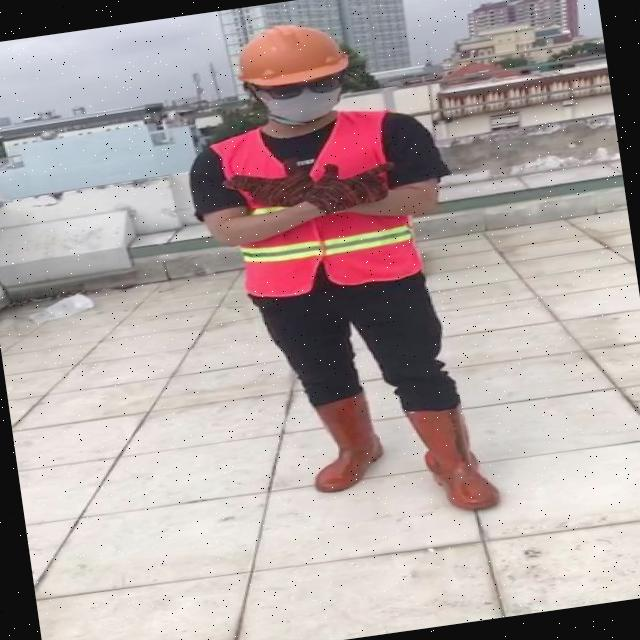vest: (202, 104, 427, 306)
